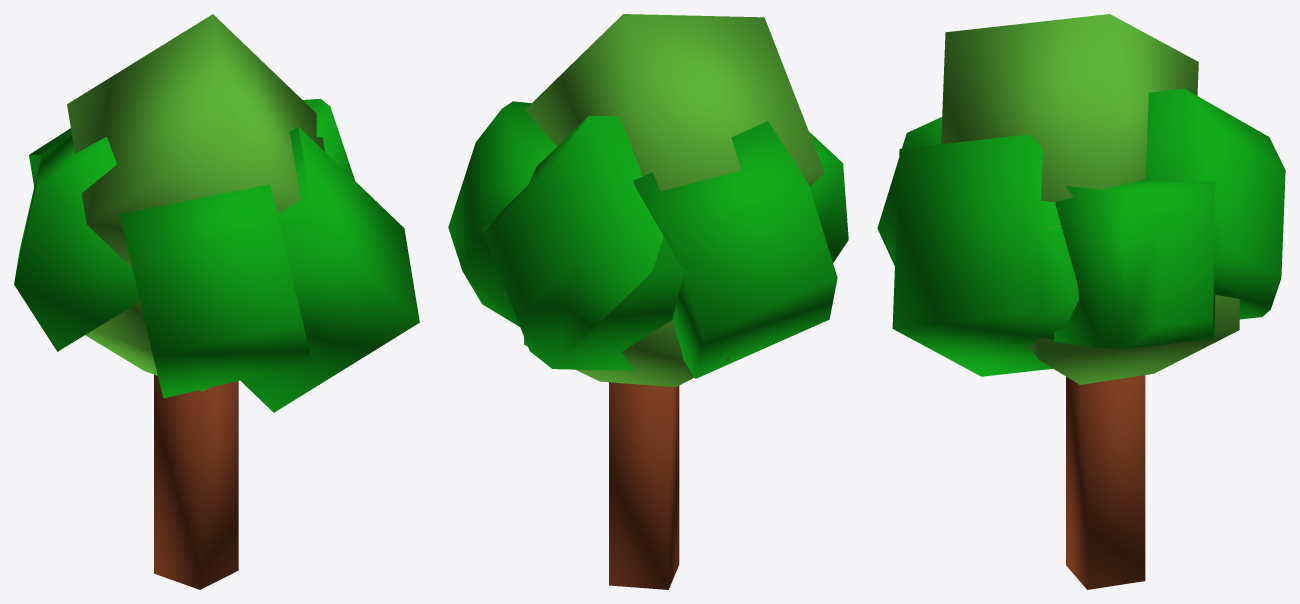
File: Tree_2.fbx
3 renders of one model, left to right at view 1: azimuth 30°, elevation 25°; view 2: azimuth 150°, elevation 25°; view 3: azimuth 270°, elevation 25°, orthographic. The views are drawn at different scales.
Visible parts, largest first — view 1: Cube.002, Cube.003, Cube.007, Tree_1.001, Cube.006, Cube, Cube.004, Cube.005; view 2: Cube.005, Cube.002, Cube.006, Tree_1.001, Cube.004, Cube, Cube.003; view 3: Cube.007, Cube.002, Cube.004, Cube.005, Tree_1.001, Cube, Cube.003.
Boxes of the visible parts, <box> form: Cube.002: <box>67,14,324,267</box>; Cube.003: <box>119,184,312,398</box>; Cube.007: <box>240,126,419,412</box>; Tree_1.001: <box>154,374,238,589</box>; Cube.006: <box>14,135,139,351</box>; Cube: <box>85,302,210,391</box>; Cube.004: <box>303,98,354,180</box>; Cube.005: <box>29,128,71,186</box>; Cube.005: <box>482,115,690,370</box>; Cube.002: <box>525,14,824,190</box>; Cube.006: <box>633,121,837,378</box>; Tree_1.001: <box>609,382,679,589</box>; Cube.004: <box>448,101,556,326</box>; Cube: <box>524,320,729,387</box>; Cube.003: <box>809,132,848,262</box>; Cube.007: <box>892,134,1114,376</box>; Cube.002: <box>941,14,1198,202</box>; Cube.004: <box>1054,179,1215,348</box>; Cube.005: <box>1145,88,1285,319</box>; Tree_1.001: <box>1066,375,1145,589</box>; Cube: <box>1029,225,1239,384</box>; Cube.003: <box>877,117,942,265</box>.
Bounding box in the file's own units: 1386 × 2031 × 1322.
